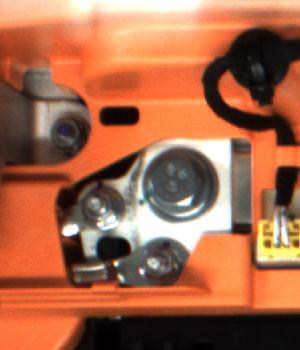nut_b: (139, 143, 223, 224)
